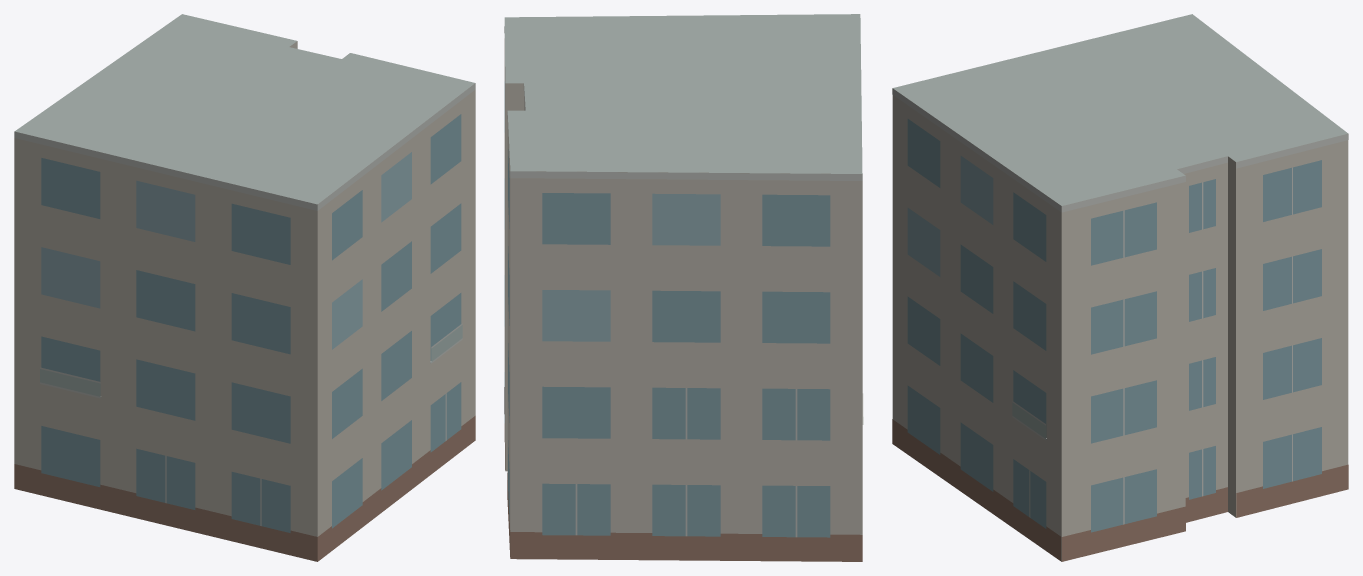
The model's file is survey-upis-32815804.glb.
3 renders of one model, left to right at view 1: azimuth 30°, elevation 25°; view 2: azimuth 150°, elevation 25°; view 3: azimuth 270°, elevation 25°, orthographic. The views are drawn at different scales.
Visible parts, largest first — view 1: survey-upis-32815804.tmp; view 2: survey-upis-32815804.tmp; view 3: survey-upis-32815804.tmp.
Boxes of the visible parts, x1,y1,x2,y2 form: survey-upis-32815804.tmp: (14, 14, 475, 561); survey-upis-32815804.tmp: (504, 14, 863, 561); survey-upis-32815804.tmp: (892, 14, 1348, 561).
Bounding box in the file's own units: 15.56 × 13.43 × 15.61.
